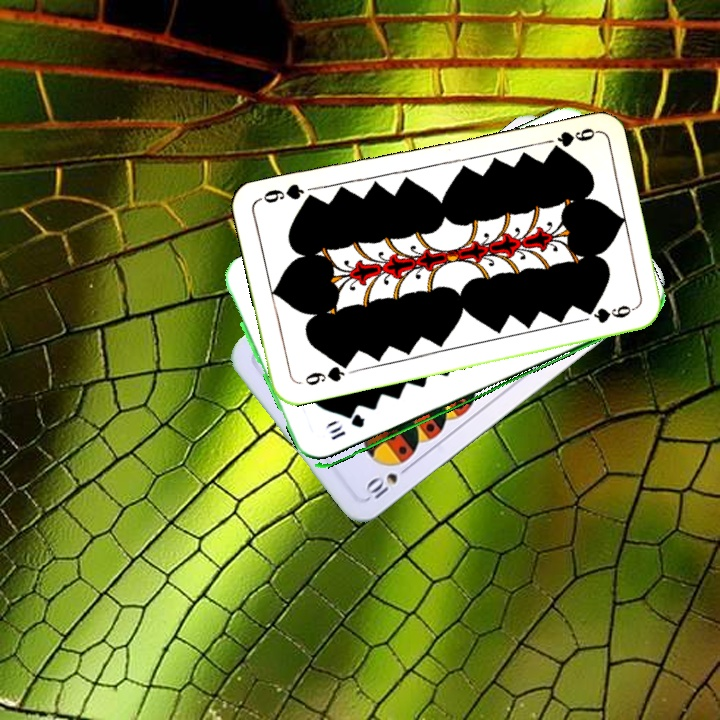G10: (327, 413, 368, 443)
G9: (300, 358, 352, 388), (552, 124, 598, 149)
S10: (361, 461, 414, 502)
